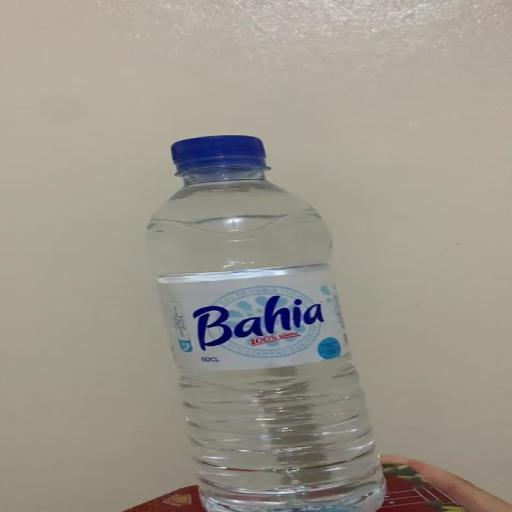bouteille conformite: (162, 138, 397, 512)
